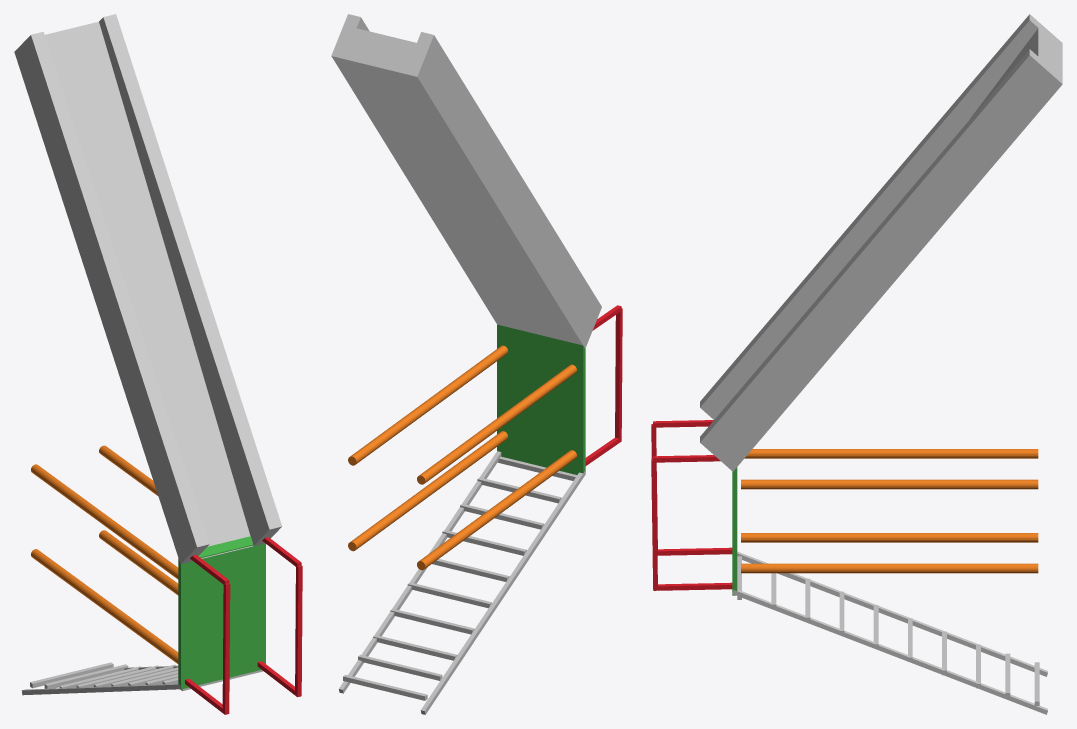
The model's file is PhysicsParkSlide.obj.
3 renders of one model, left to right at view 1: azimuth 30°, elevation 25°; view 2: azimuth 150°, elevation 25°; view 3: azimuth 270°, elevation 25°, orthographic.
Parts seen in each view (by area): view 1: group_0_3888547, group_0_4634441, group_0_16089887, group_0_7720667, group_0_15277357; view 2: group_0_3888547, group_0_4634441, group_0_7720667, group_0_16089887, group_0_15277357; view 3: group_0_3888547, group_0_16089887, group_0_7720667, group_0_15277357, group_0_4634441.
Boxes of the visible parts, x1,y1,x2,y2 form: group_0_3888547: (14,14,282,564); group_0_4634441: (178,536,265,689); group_0_16089887: (31,445,178,663); group_0_7720667: (21,662,263,695); group_0_15277357: (185,537,302,714); group_0_3888547: (331,14,601,348); group_0_4634441: (497,324,585,474); group_0_7720667: (339,451,585,714); group_0_16089887: (348,345,576,570); group_0_15277357: (585,305,622,465); group_0_3888547: (700,14,1062,471); group_0_16089887: (741,449,1038,573); group_0_7720667: (732,551,1047,714); group_0_15277357: (651,420,732,590); group_0_4634441: (732,467,737,595).
Bounding box in the file's own units: 20 × 150 × 84.38.
